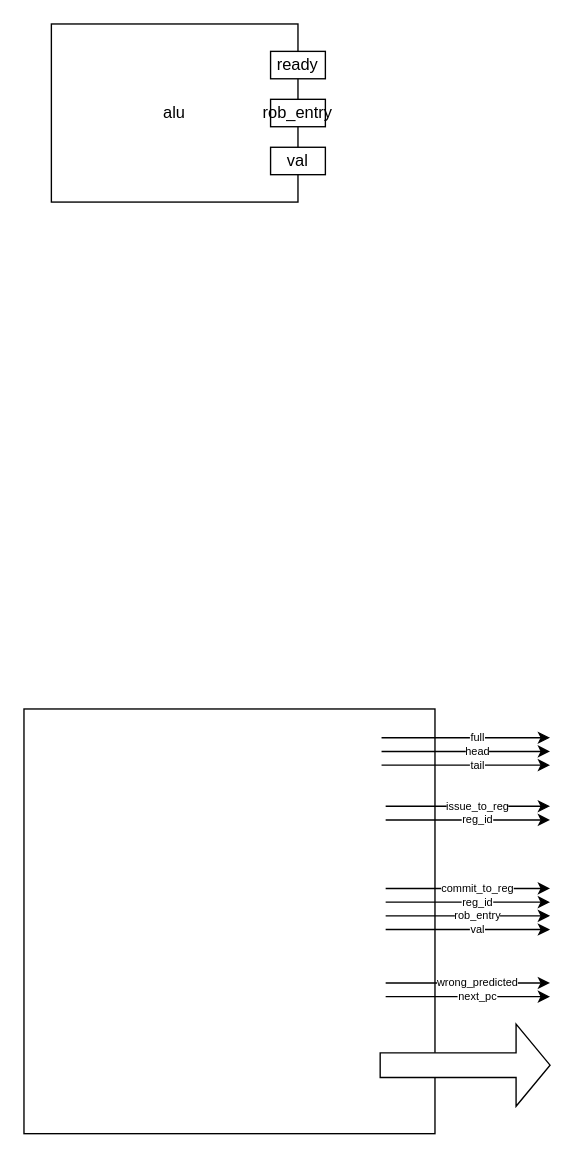
This 585x1158 diagram has some shape labels left out. Each missing label, with the centre of its shape:
between reg & rob: (464,1064)
rob: (229,921)
